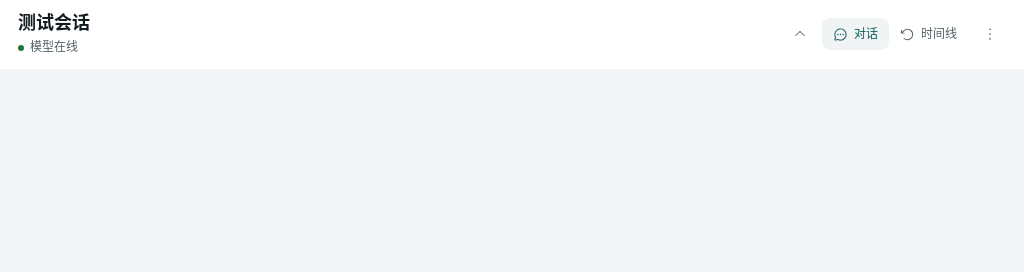
desktop business export › shows save failures and does not silently fall back to browser download
Step 1. Click the button named "会话信息与导出" → [990, 34], box [981,26,999,44]
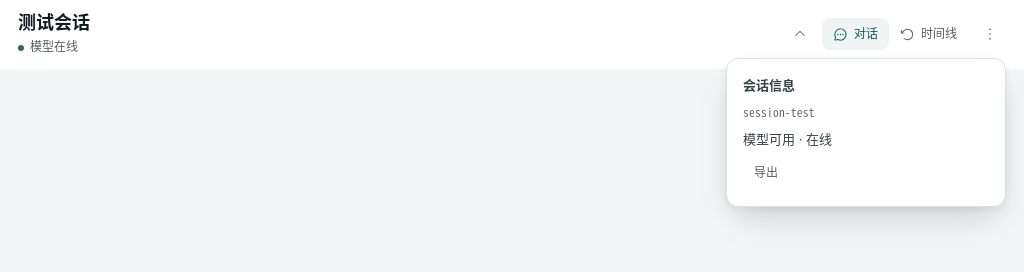
Step 2. Click the button "导出" → [866, 174], box [743,158,989,190]
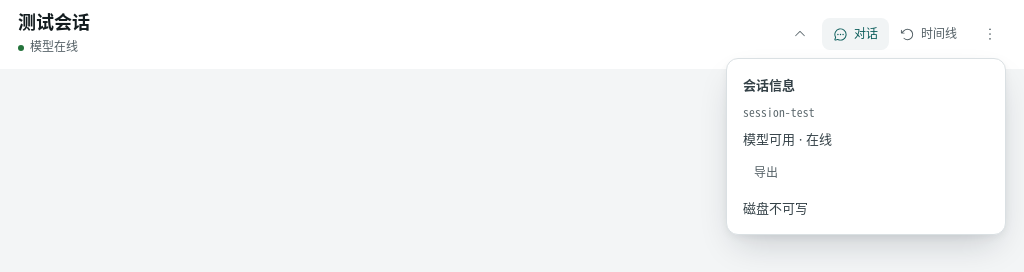
Expected: the message reads "磁盘不可写", [743,200,808,216]
